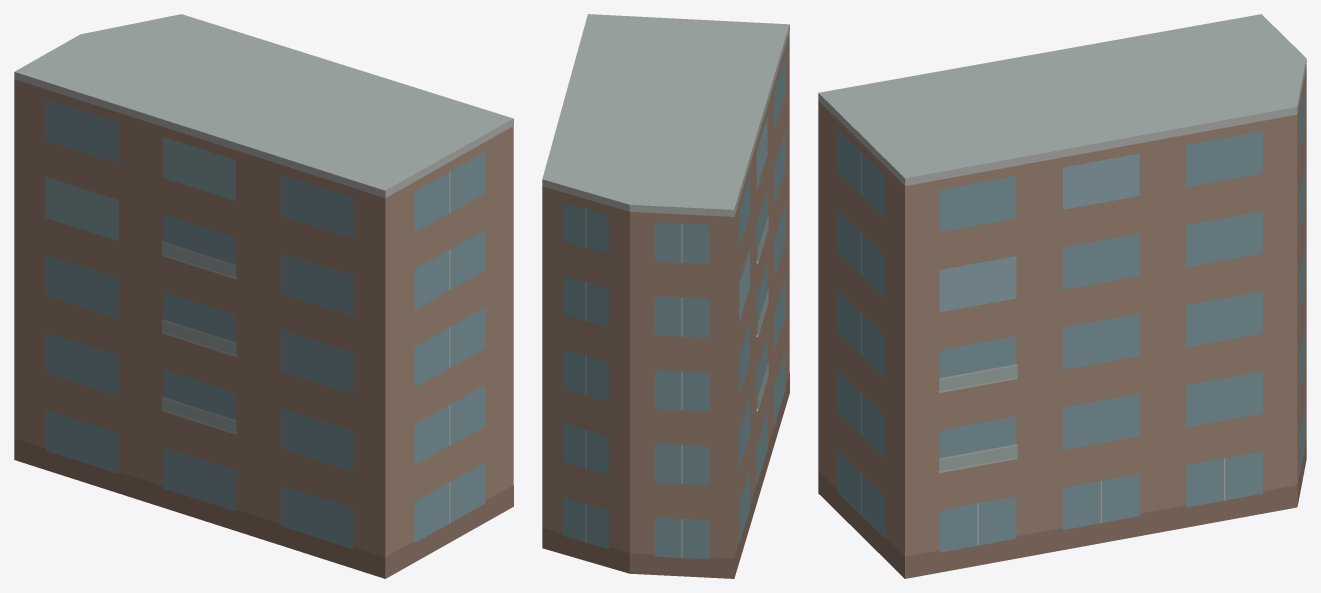
Rendered from survey-upis-32806787.glb.
3 views of the same model, side by side, from view 1: azimuth 30°, elevation 25°; view 2: azimuth 150°, elevation 25°; view 3: azimuth 270°, elevation 25° (orthographic). The views are drawn at different scales.
Visible parts, largest first — view 1: survey-upis-32806787.tmp; view 2: survey-upis-32806787.tmp; view 3: survey-upis-32806787.tmp.
Part boxes in pixels (left/top/right/bottom): survey-upis-32806787.tmp: left=14, top=14, right=513, bottom=578; survey-upis-32806787.tmp: left=542, top=14, right=789, bottom=578; survey-upis-32806787.tmp: left=818, top=14, right=1306, bottom=578.
Size of the model in its own units: 11.29 by 12.8 by 14.16.
